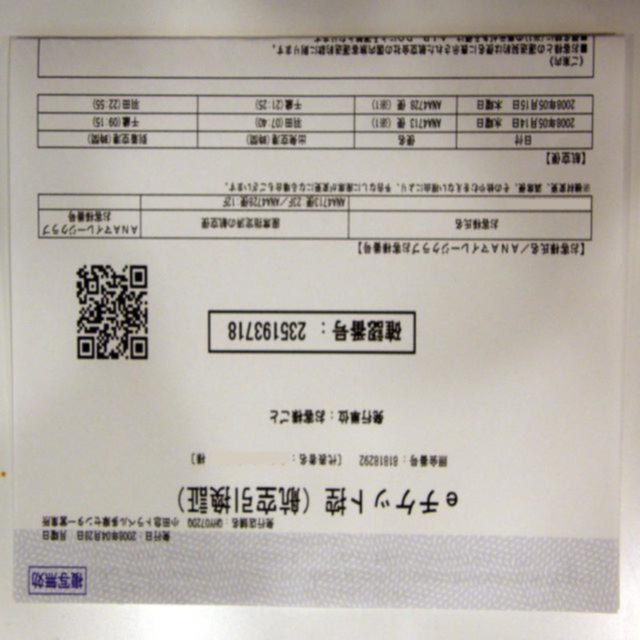qr-code: (76, 265, 148, 360)
